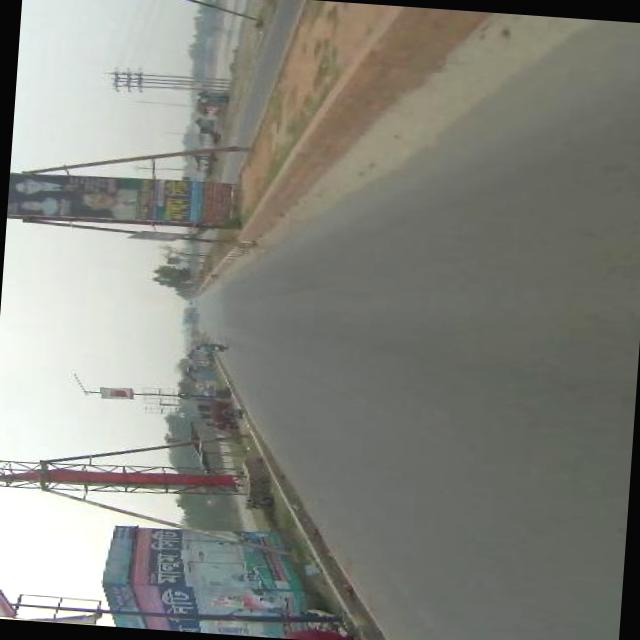car: (188, 300, 194, 305)
motorcycle: (192, 342, 226, 352)
truck: (181, 317, 193, 324)
